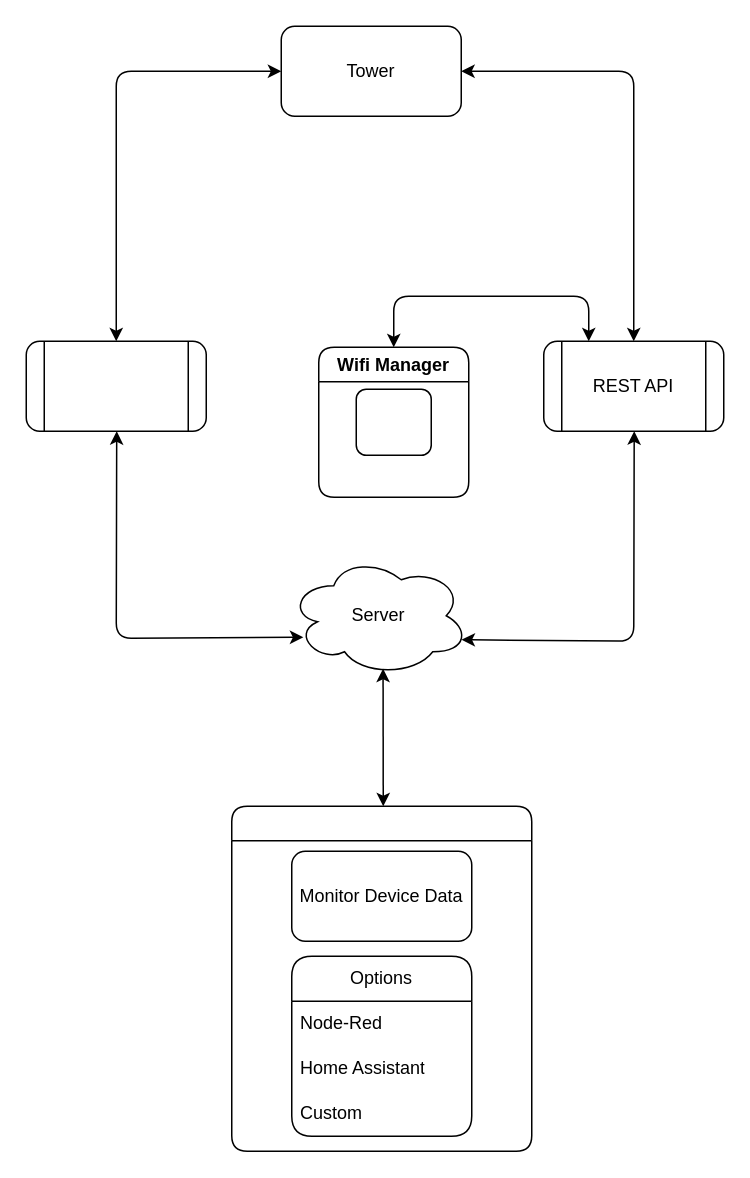
Image size: 750x1178. Some labels were removed from this diagram. Here are the shapes that lost their labels. From the top down, the box of each, then its label:
(25, 340, 206, 431): MQTT
(355, 388, 431, 455): Set Wifi Settings
(230, 805, 532, 1151): Dashboard
